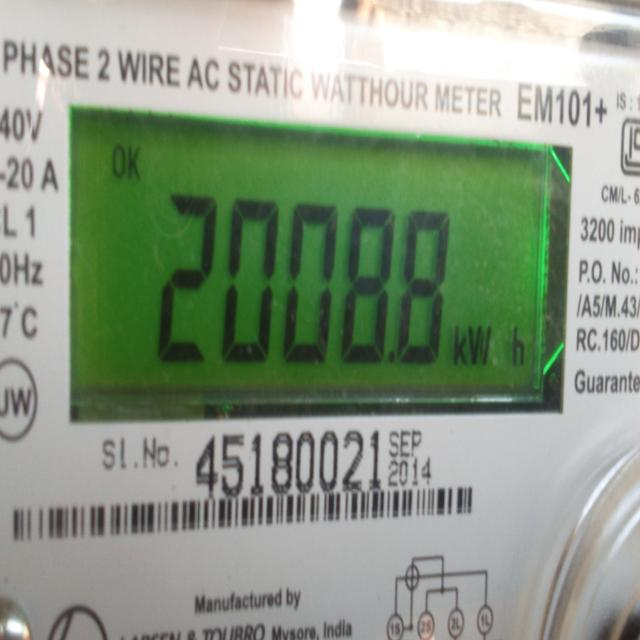.: (389, 342, 398, 368)
0: (221, 197, 278, 373), (280, 196, 335, 378)
2: (152, 187, 220, 383)
8: (341, 200, 394, 373), (396, 204, 448, 374)
